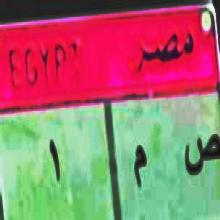1: (42, 135, 70, 189)
meem: (127, 138, 153, 201)
saad: (180, 121, 220, 187)
